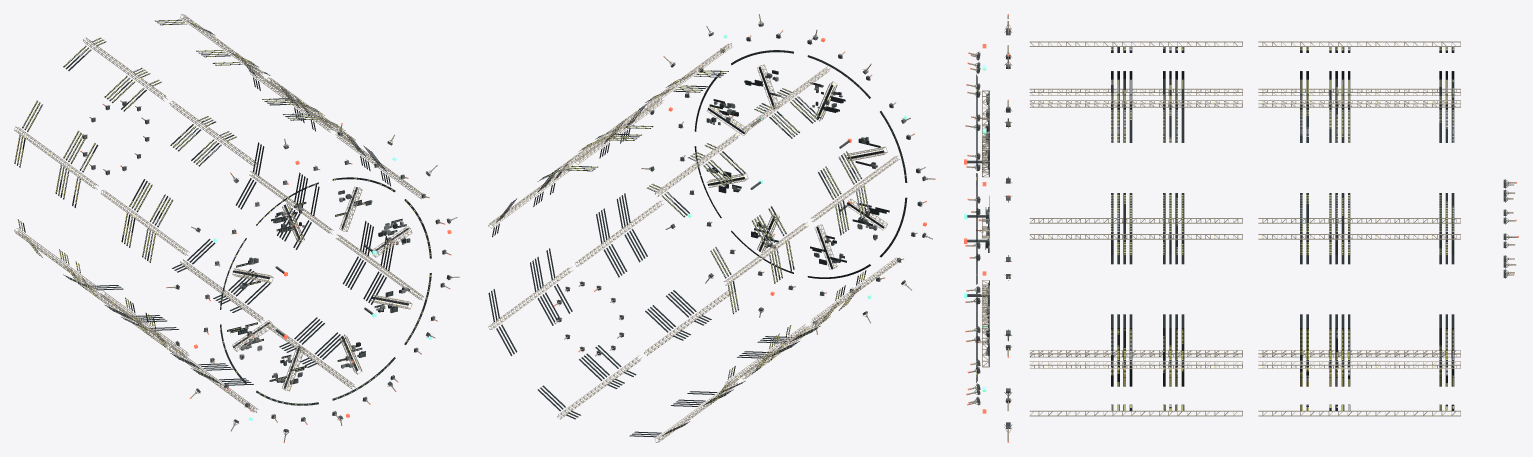
The model's file is trade-drum-detail.glb.
3 views of the same model, side by side, from view 1: azimuth 30°, elevation 25°; view 2: azimuth 150°, elevation 25°; view 3: azimuth 270°, elevation 25° (orthographic). The views are drawn at different scales.
Parts seen in each view (by area): view 1: scale-detail/recess-black, scale-detail/truss-paint, scale-detail/amber-lamp, scale-detail/dark-structure, scale-detail/machined-alloy, scale-detail/work-flood; view 2: scale-detail/recess-black, scale-detail/truss-paint, scale-detail/amber-lamp, scale-detail/dark-structure, scale-detail/machined-alloy, scale-detail/work-flood; view 3: scale-detail/truss-paint, scale-detail/recess-black, scale-detail/amber-lamp, scale-detail/dark-structure, scale-detail/work-flood.
Boxes of the visible parts, box(x1,y1,x2,y2) form: scale-detail/recess-black: box(14, 19, 431, 405); scale-detail/truss-paint: box(14, 14, 458, 441); scale-detail/amber-lamp: box(14, 20, 431, 405); scale-detail/dark-structure: box(83, 101, 450, 432); scale-detail/machined-alloy: box(239, 191, 408, 384); scale-detail/work-flood: box(18, 22, 458, 432); scale-detail/recess-black: box(488, 50, 907, 437); scale-detail/truss-paint: box(488, 15, 934, 442); scale-detail/amber-lamp: box(499, 48, 892, 434); scale-detail/dark-structure: box(557, 23, 926, 355); scale-detail/machined-alloy: box(708, 76, 877, 260); scale-detail/work-flood: box(538, 24, 934, 401); scale-detail/truss-paint: box(966, 15, 1517, 441); scale-detail/recess-black: box(976, 47, 1454, 410); scale-detail/amber-lamp: box(976, 41, 1453, 416); scale-detail/dark-structure: box(967, 28, 1506, 428); scale-detail/work-flood: box(981, 19, 1517, 412).
Size of the model in its own units: 822 by 818 by 1068.
